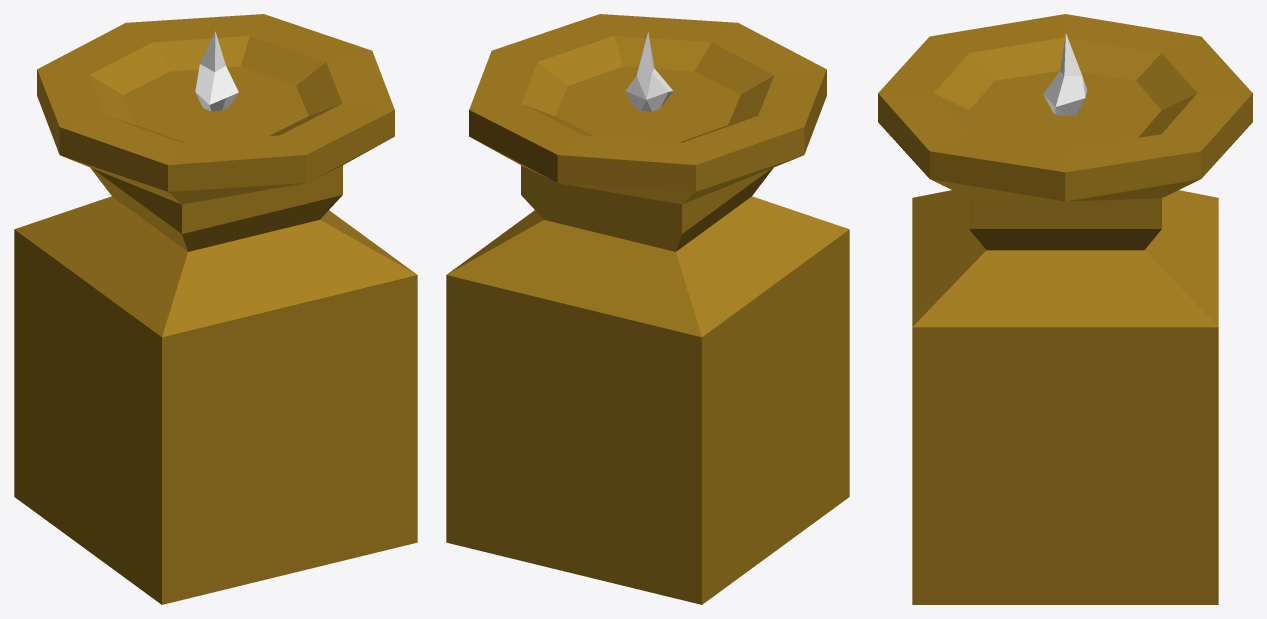
Rendered from Lantern.fbx.
The picture shows the model from 3 angles, left to right: view 1: azimuth 30°, elevation 25°; view 2: azimuth 150°, elevation 25°; view 3: azimuth 270°, elevation 25°; orthographic projection. The views are drawn at different scales.
Visible parts, largest first — view 1: Cube; view 2: Cube; view 3: Cube.
Part boxes in pixels (<box>): Cube: <box>14,14,417,604</box>; Cube: <box>446,14,849,604</box>; Cube: <box>878,14,1252,604</box>.
Size of the model in its own units: 245 by 365 by 245.
